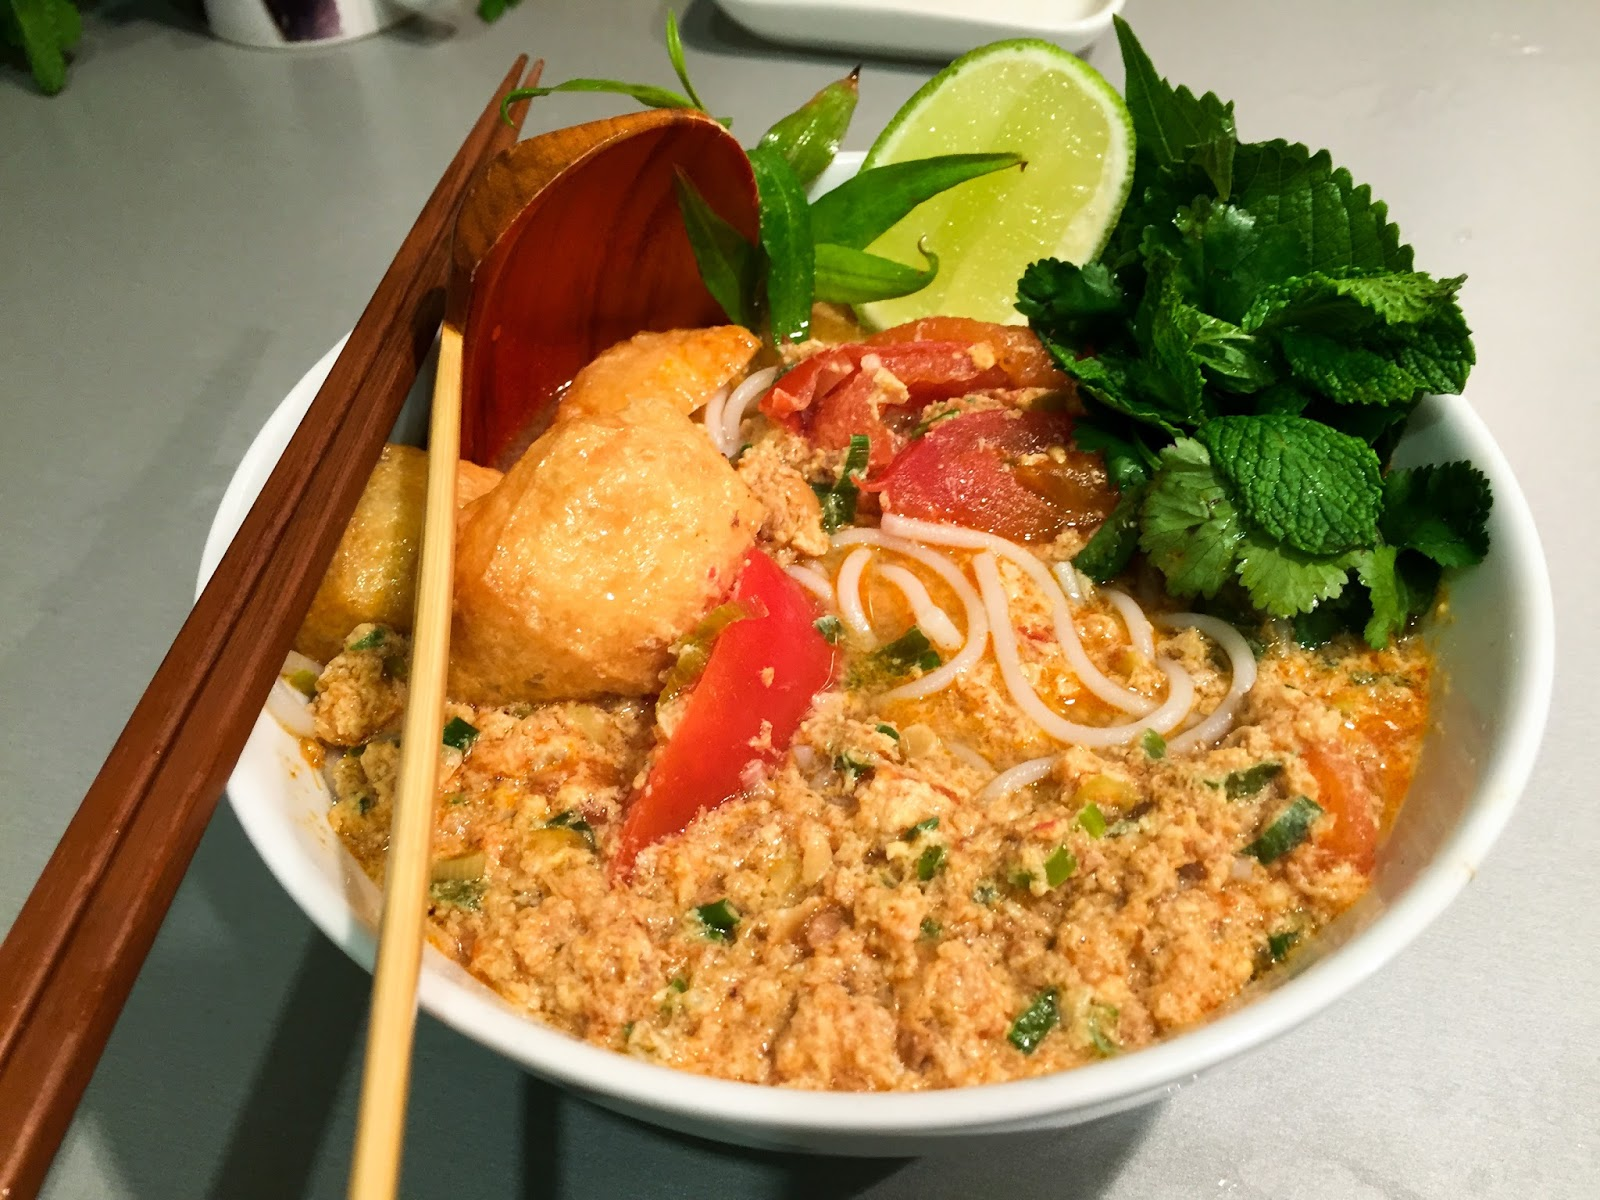rieu: (1029, 753, 1272, 1005), (729, 758, 980, 998), (504, 821, 729, 1012)
tofu: (464, 416, 732, 677)
tomato: (625, 552, 837, 855), (800, 339, 1060, 458), (862, 418, 1104, 541)
